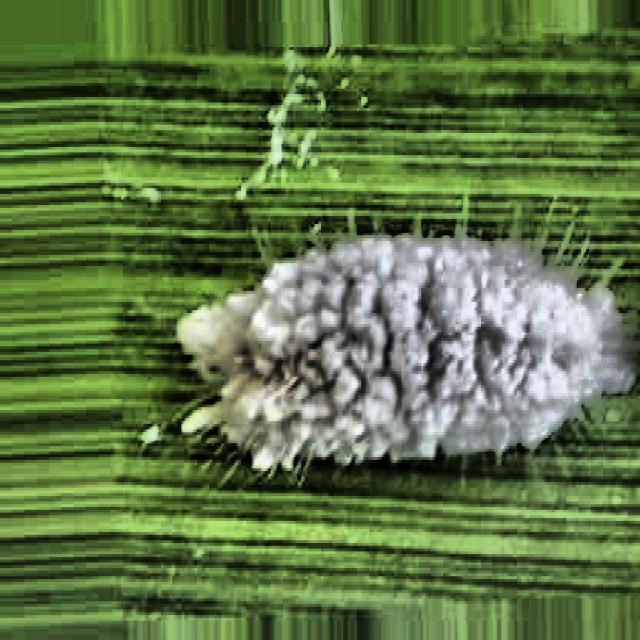Mealy-bug: (157, 106, 640, 511)
